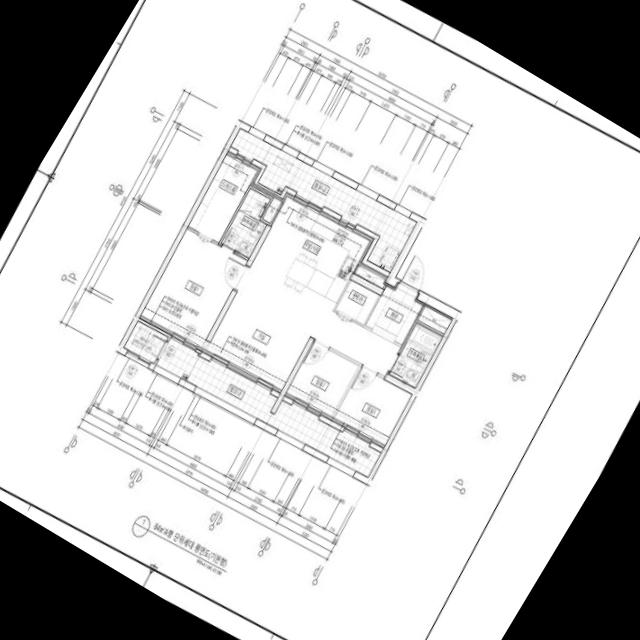background: (0, 0, 640, 640)
space_balconi: (156, 339, 381, 477), (231, 129, 416, 272)
space_bedroom: (139, 229, 247, 350), (333, 368, 411, 448), (285, 343, 359, 420)
space_dressroom: (188, 152, 261, 243)
space_kitchen: (250, 193, 374, 311), (366, 283, 424, 345)
space_living_room: (204, 267, 400, 393)
space_other: (336, 281, 379, 325), (124, 322, 168, 364), (418, 305, 452, 334), (355, 264, 387, 289), (262, 195, 283, 223)
space_toilet: (389, 324, 442, 388), (221, 189, 270, 258)
